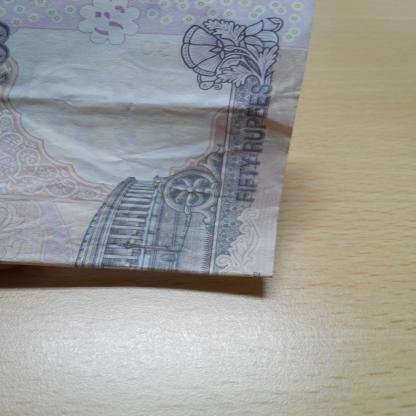Old50Back: (0, 0, 315, 278)
